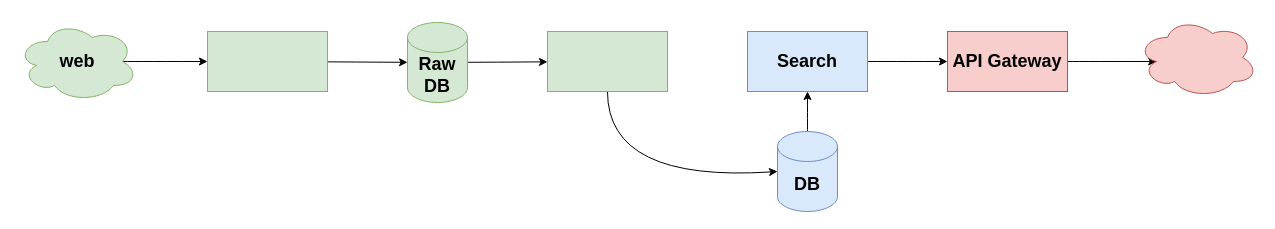
The diagram is 1275 pixels wide and 229 high, and some of its shapes have lost their labels. Here are the shapes that lost their labels. From the top down, the centre of each, then its label:
At point (267, 61): "Robot".
At point (607, 61): "Preprocessor".
At point (1197, 57): "Users".
